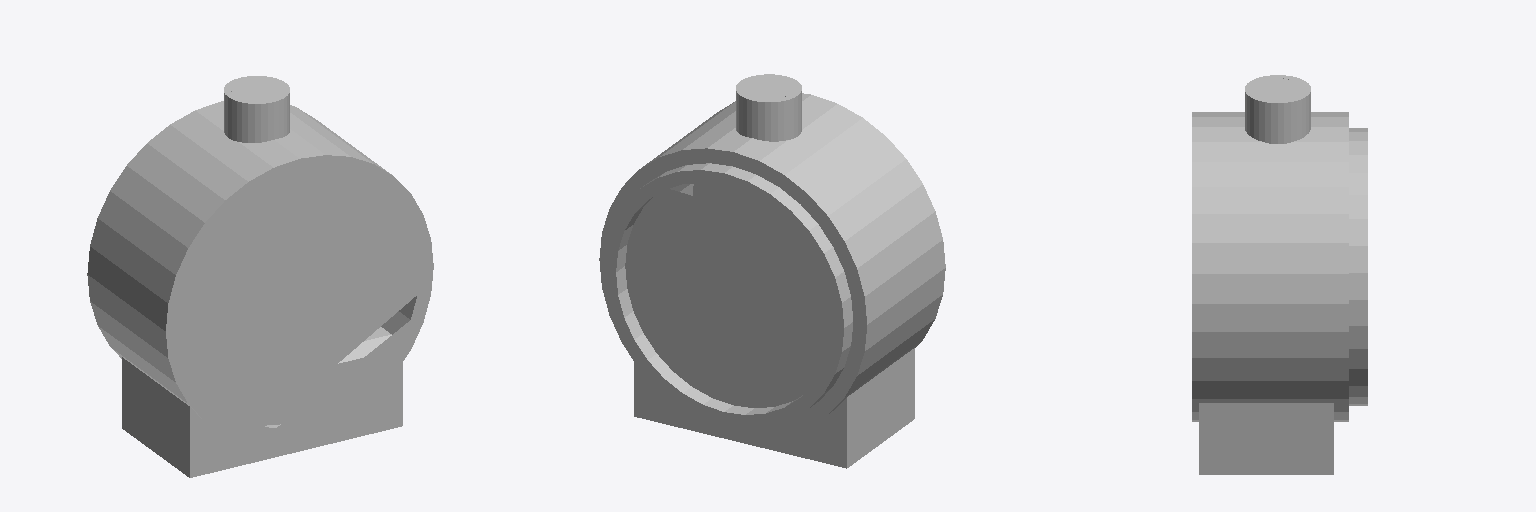
Rendered from middle_thing.obj.
3 renders of one model, left to right at view 1: azimuth 30°, elevation 25°; view 2: azimuth 150°, elevation 25°; view 3: azimuth 270°, elevation 25°, orthographic.
Visible parts, largest first — view 1: Cube.001, Cube, Cube.002; view 2: Cube.001, Cube, Cube.002; view 3: Cube.001, Cube, Cube.002.
Part boxes in pixels (x1,y1,x2,y2): Cube.001: (87,101,433,442); Cube: (122,327,402,477); Cube.002: (224,76,289,142); Cube.001: (599,93,945,435); Cube: (634,348,914,468); Cube.002: (736,74,801,141); Cube.001: (1192,112,1367,421); Cube: (1199,403,1333,474); Cube.002: (1245,75,1310,143).
Bounding box in the file's own units: 2 × 2.38 × 1.13.